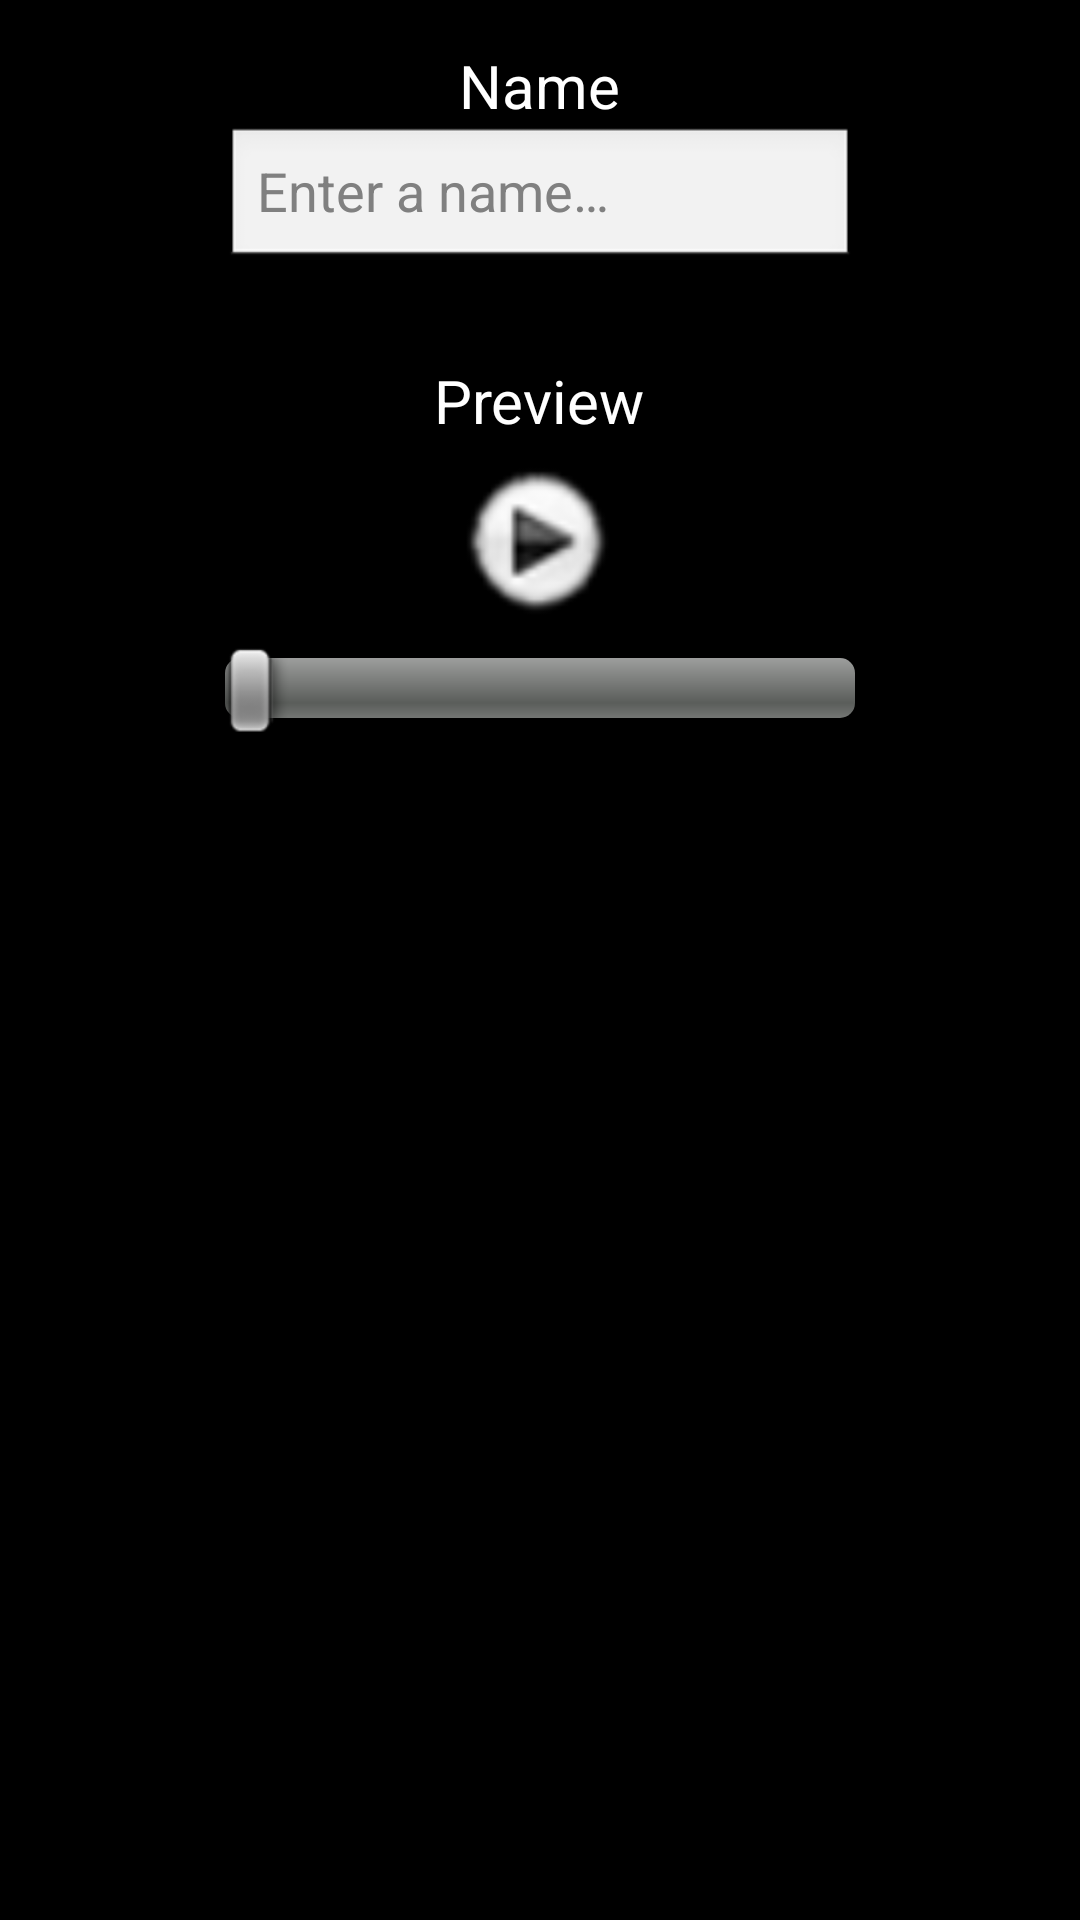

Locate icon controls on the screen. Image size 1080 × 1920, boxes as (x1, y1, x2, y2).
play: (470, 472, 605, 609)
